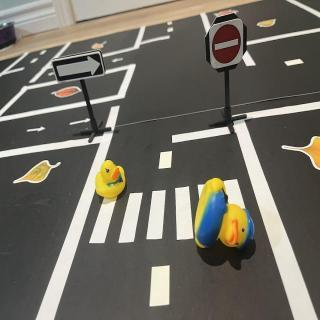duck_regular: (95, 158, 129, 200)
duck_specialty: (194, 176, 258, 254)
road_crosswalk: (88, 172, 254, 248)
road_oneway: (68, 118, 94, 128), (25, 127, 47, 134), (111, 58, 126, 64), (47, 71, 57, 79)
sign_noentry: (211, 18, 245, 70)
sign_oneway_right: (53, 51, 107, 85)
